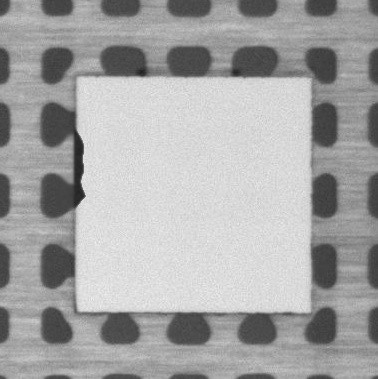DIE_BROKEN: (71, 131, 88, 208)
